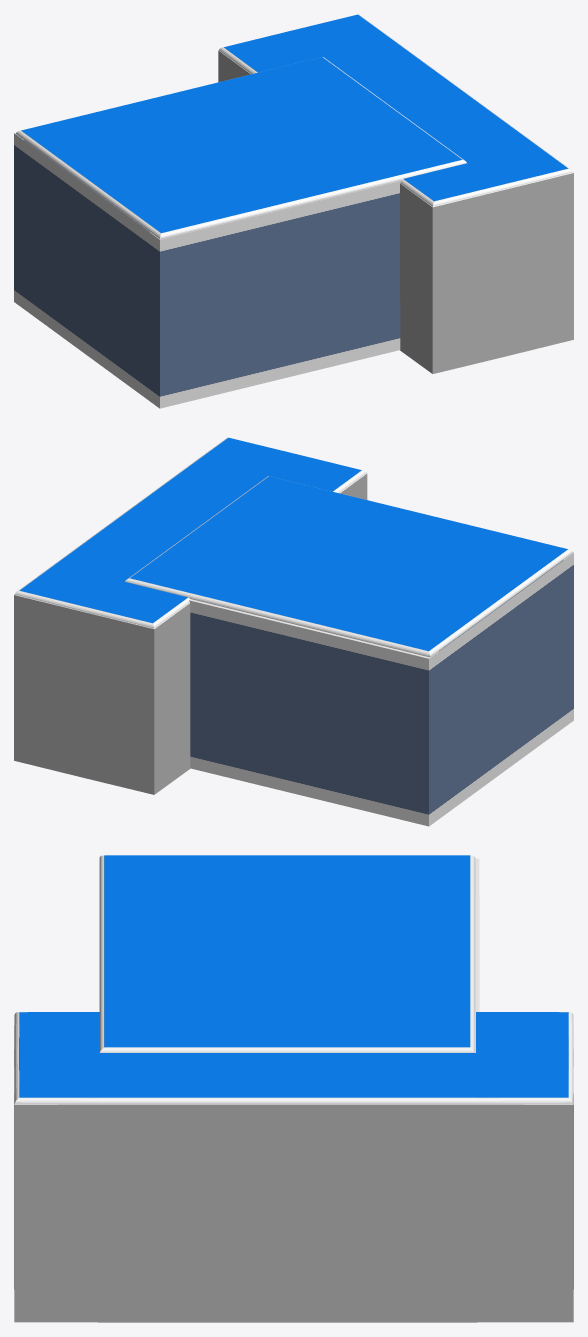
Rendered from VR_Flagship_Room.FBX.
3 views of the same model, one above another, from view 1: azimuth 30°, elevation 25°; view 2: azimuth 150°, elevation 25°; view 3: azimuth 270°, elevation 25° (orthographic). The views are drawn at different scales.
Visible parts, largest first — view 1: Wall, Out_Celling001, Obj_ceiling_01; view 2: Wall, Out_Celling001, Obj_ceiling_01; view 3: Out_Celling001, Obj_ceiling_01, Wall.
Boxes of the visible parts, x1,y1,x2,y2 form: Wall: [14, 132, 400, 408]; Out_Celling001: [218, 14, 573, 373]; Obj_ceiling_01: [16, 57, 466, 239]; Wall: [189, 552, 573, 826]; Out_Celling001: [14, 437, 367, 794]; Obj_ceiling_01: [125, 476, 573, 657]; Out_Celling001: [14, 1012, 573, 1322]; Obj_ceiling_01: [99, 855, 475, 1052]; Wall: [99, 858, 479, 1052].
Bounding box in the file's own units: 568 × 247 × 553.
